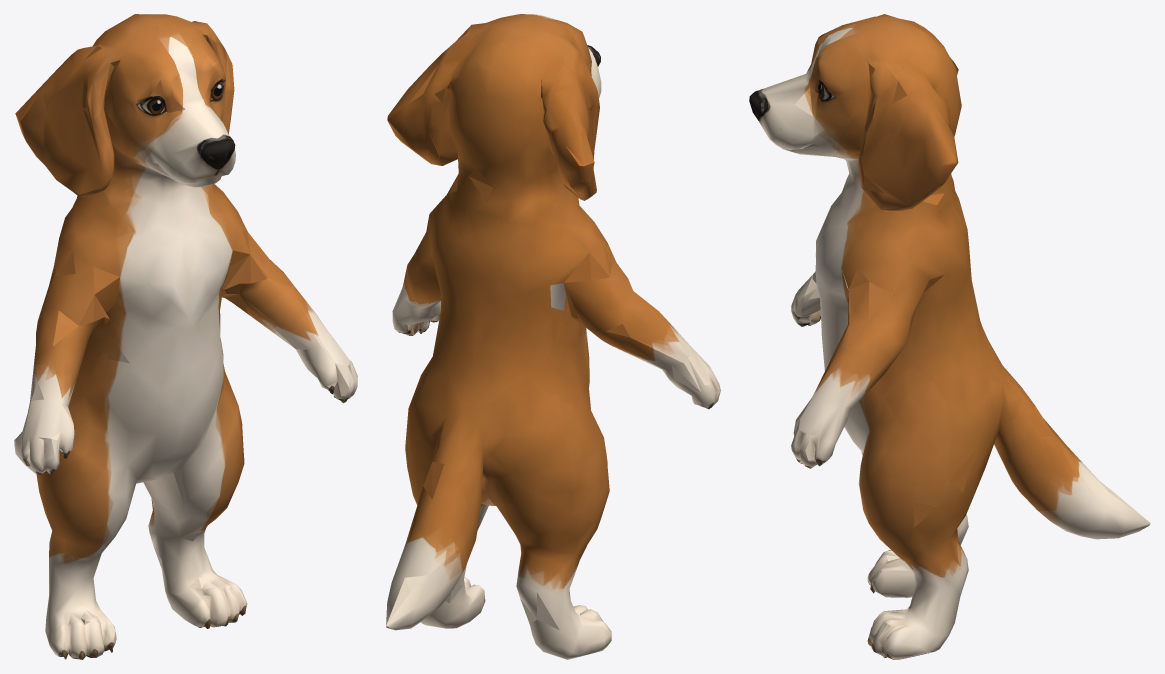
File: dog-patch.glb
The picture shows the model from 3 angles, left to right: view 1: azimuth 30°, elevation 25°; view 2: azimuth 150°, elevation 25°; view 3: azimuth 270°, elevation 25°; orthographic projection. The views are drawn at different scales.
Parts seen in each view (by area): view 1: output_unwrapped; view 2: output_unwrapped; view 3: output_unwrapped.
Boxes of the visible parts, <box> form: output_unwrapped: <box>14,14,357,659</box>; output_unwrapped: <box>386,14,720,659</box>; output_unwrapped: <box>749,14,1150,659</box>.
Bounding box in the file's own units: 1.07 × 1.9 × 1.17.
1 material, 1 textured.
